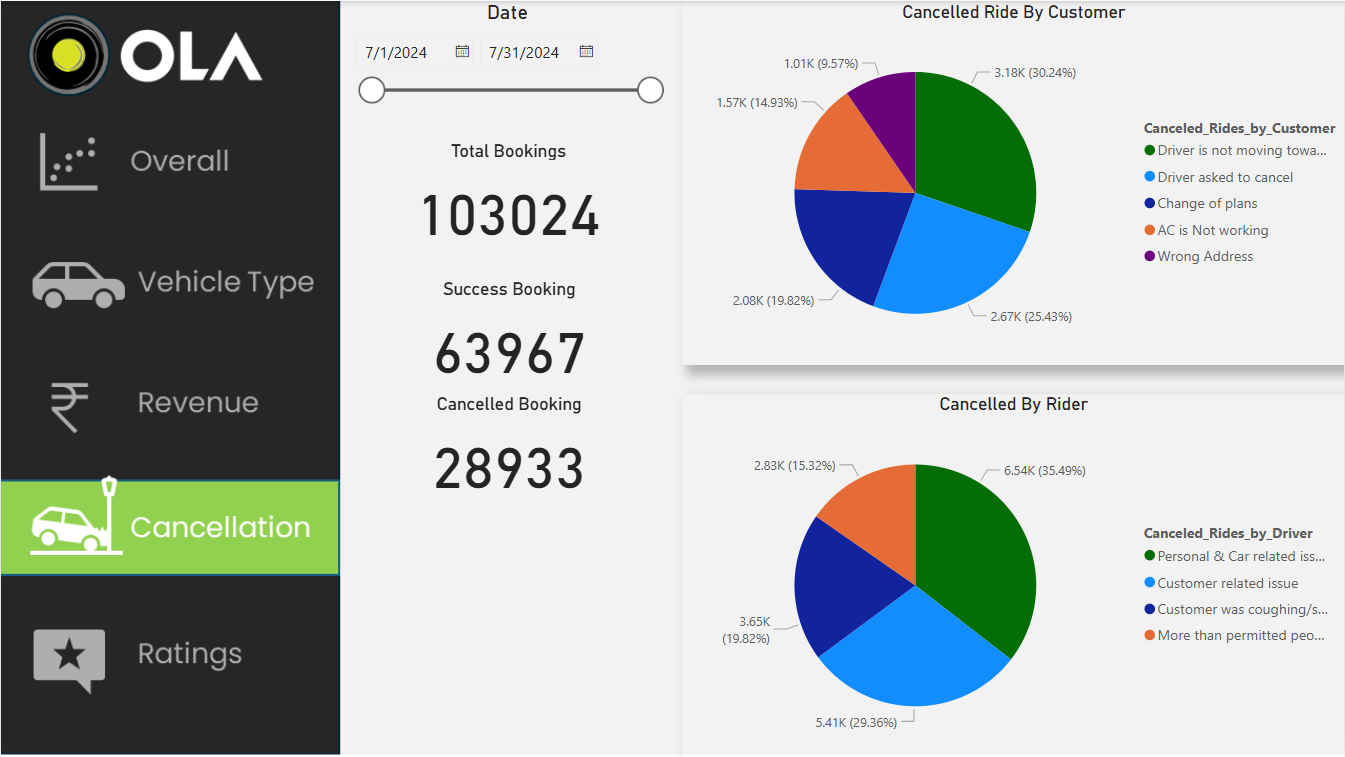

What the dashboard file says about the page in this screenshot:
{"tool":"powerbi","page":{"name":"Cancellation","canvas":[1280,720],"ordinal":3},"visuals":[{"type":"actionButton","box":[20.2,591.7,291.7,78.6],"z":0},{"type":"actionButton","box":[20.2,226.2,291.7,85.7],"z":1000},{"type":"actionButton","box":[20.2,347.6,291.7,71.4],"z":2000},{"type":"actionButton","box":[20.2,117.9,291.7,66.7],"z":3000},{"type":"pieChart","title":"Cancelled By Rider","fields":{"Category":["Ola.Canceled_Rides_by_Driver"],"Y":["CountNonNull(Ola.Canceled_Rides_by_Driver)"]},"box":[648.9,373.8,631.4,346.7],"z":4000},{"type":"pieChart","title":"Cancelled Ride By Customer","fields":{"Category":["Ola.Canceled_Rides_by_Customer"],"Y":["CountNonNull(Ola.Canceled_Rides_by_Customer)"]},"box":[648.9,0,631.4,346.7],"z":5000},{"type":"slicer","title":"Date","fields":{"Values":["Ola.Date"]},"box":[324.5,0,314.9,117.7],"z":6000},{"type":"card","title":"Total Bookings","fields":{"Values":["CountNonNull(Ola.Booking_ID)"]},"box":[326.6,131.7,314.2,109.8],"z":7000},{"type":"card","title":"Success Booking","fields":{"Values":["CountNonNull(Ola.Booking_ID)"]},"box":[327.6,264,313.3,109.7],"z":8000},{"type":"card","title":"Cancelled Booking","fields":{"Values":["CountNonNull(Ola.Booking_ID)"]},"box":[327.6,373.8,313.3,109.7],"z":9000},{"type":"card","title":"Cancelled Rate","fields":{"Values":["CountNonNull(Ola.Booking_ID)"]},"box":[327.6,483.5,313.3,109.7],"z":10000}]}

Visuals, with their boxes in screenshot pixels (x1, y1, x2, y2), scaled from the page's 1280x720 canvas onto the 1345x757 screenshot:
actionButton: crop(21, 622, 328, 705)
actionButton: crop(21, 238, 328, 328)
actionButton: crop(21, 365, 328, 441)
actionButton: crop(21, 124, 328, 194)
"Cancelled By Rider" pieChart: crop(682, 393, 1344, 756)
"Cancelled Ride By Customer" pieChart: crop(682, 0, 1344, 365)
"Date" slicer: crop(341, 0, 672, 124)
"Total Bookings" card: crop(343, 138, 673, 254)
"Success Booking" card: crop(344, 278, 673, 393)
"Cancelled Booking" card: crop(344, 393, 673, 508)
"Cancelled Rate" card: crop(344, 508, 673, 624)
